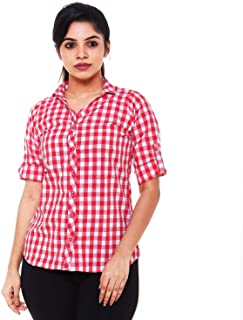shirt: (19, 78, 163, 269)
